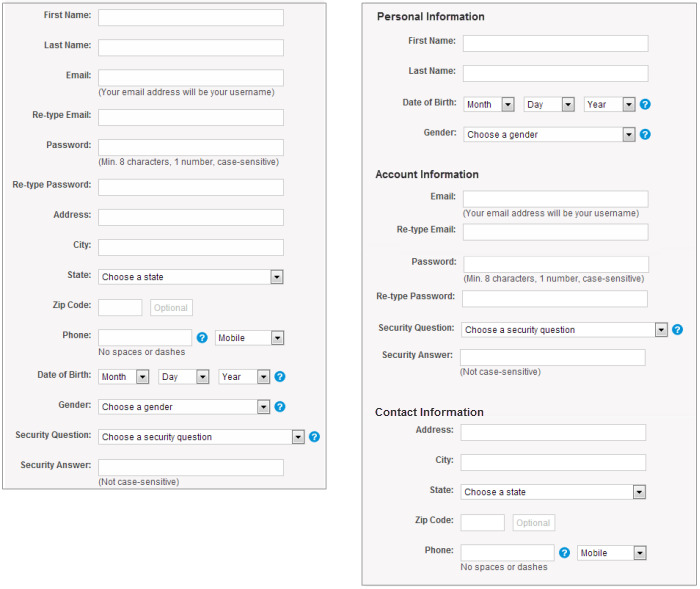button: (150, 298, 194, 317)
field: (461, 32, 649, 53), (460, 222, 650, 242), (95, 68, 284, 88), (94, 108, 285, 127), (459, 64, 650, 83), (95, 178, 285, 197), (95, 458, 285, 477), (460, 189, 650, 208), (460, 289, 650, 308), (458, 452, 648, 471), (94, 39, 285, 57), (460, 254, 651, 272), (95, 138, 285, 156), (458, 423, 648, 441), (96, 8, 285, 26), (95, 238, 283, 256), (94, 209, 284, 226), (457, 349, 646, 366), (95, 327, 192, 347), (457, 544, 556, 561), (95, 297, 142, 318), (457, 513, 506, 532)
select: (97, 429, 306, 446), (461, 322, 669, 339), (97, 268, 285, 286), (461, 483, 648, 500), (97, 399, 272, 415), (462, 126, 637, 142), (576, 544, 648, 561), (214, 329, 285, 346), (97, 368, 151, 386), (522, 96, 577, 113), (218, 368, 272, 385), (464, 96, 516, 113), (157, 369, 210, 385), (583, 96, 636, 112)
